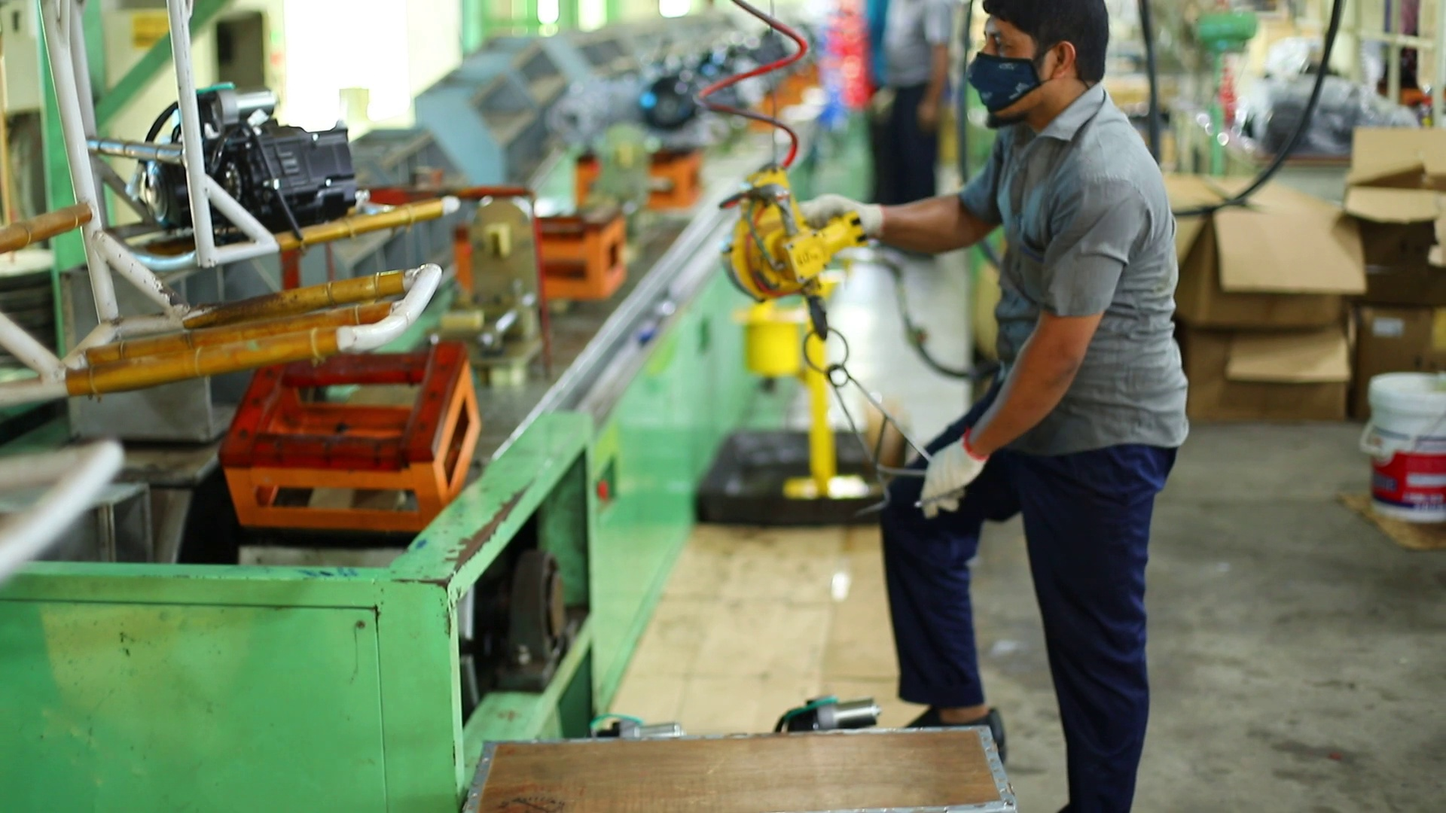mask: (966, 50, 1039, 114)
person: (791, 0, 1192, 813), (858, 1, 960, 210)
